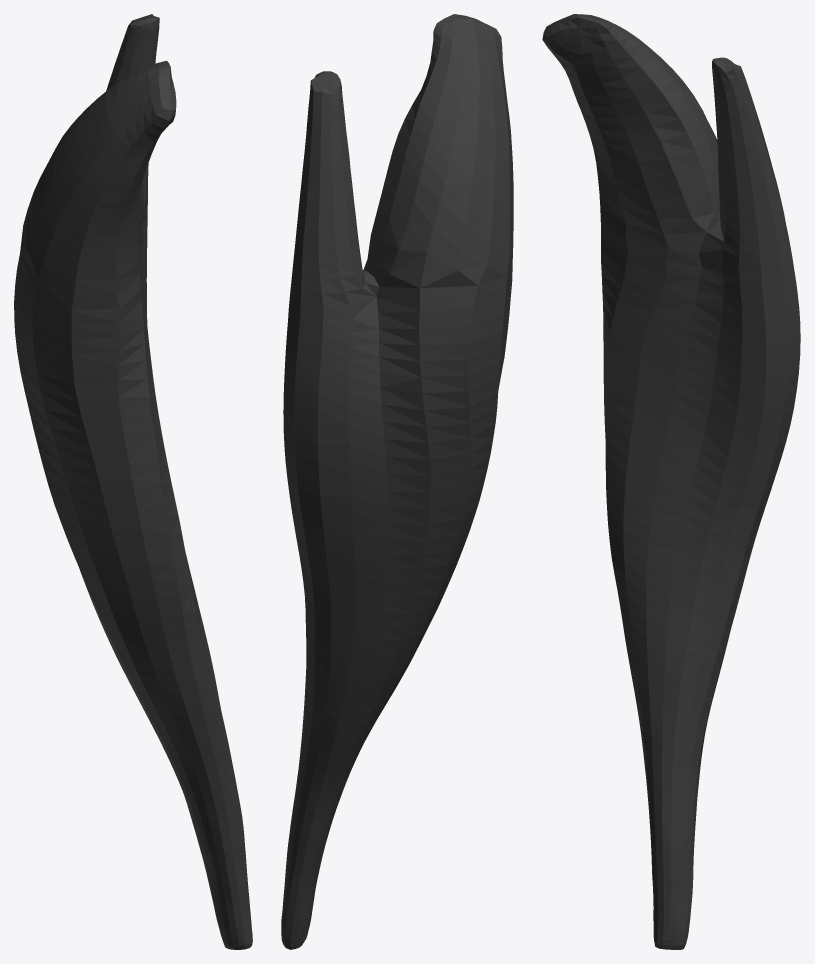
The model's file is Flexor_carpi_ulnaris.glb.
The picture shows the model from 3 angles, left to right: view 1: azimuth 30°, elevation 25°; view 2: azimuth 150°, elevation 25°; view 3: azimuth 270°, elevation 25°; orthographic projection. The views are drawn at different scales.
Visible parts, largest first — view 1: Flexor_carpi_ulnaris; view 2: Flexor_carpi_ulnaris; view 3: Flexor_carpi_ulnaris.
Part boxes in pixels (x1,y1,x2,y2): Flexor_carpi_ulnaris: (14, 14, 252, 949); Flexor_carpi_ulnaris: (281, 14, 513, 949); Flexor_carpi_ulnaris: (542, 14, 800, 949).
Bounding box in the file's own units: 20.1 × 82.25 × 21.88.
Materials: 1 (1 with a texture image).
